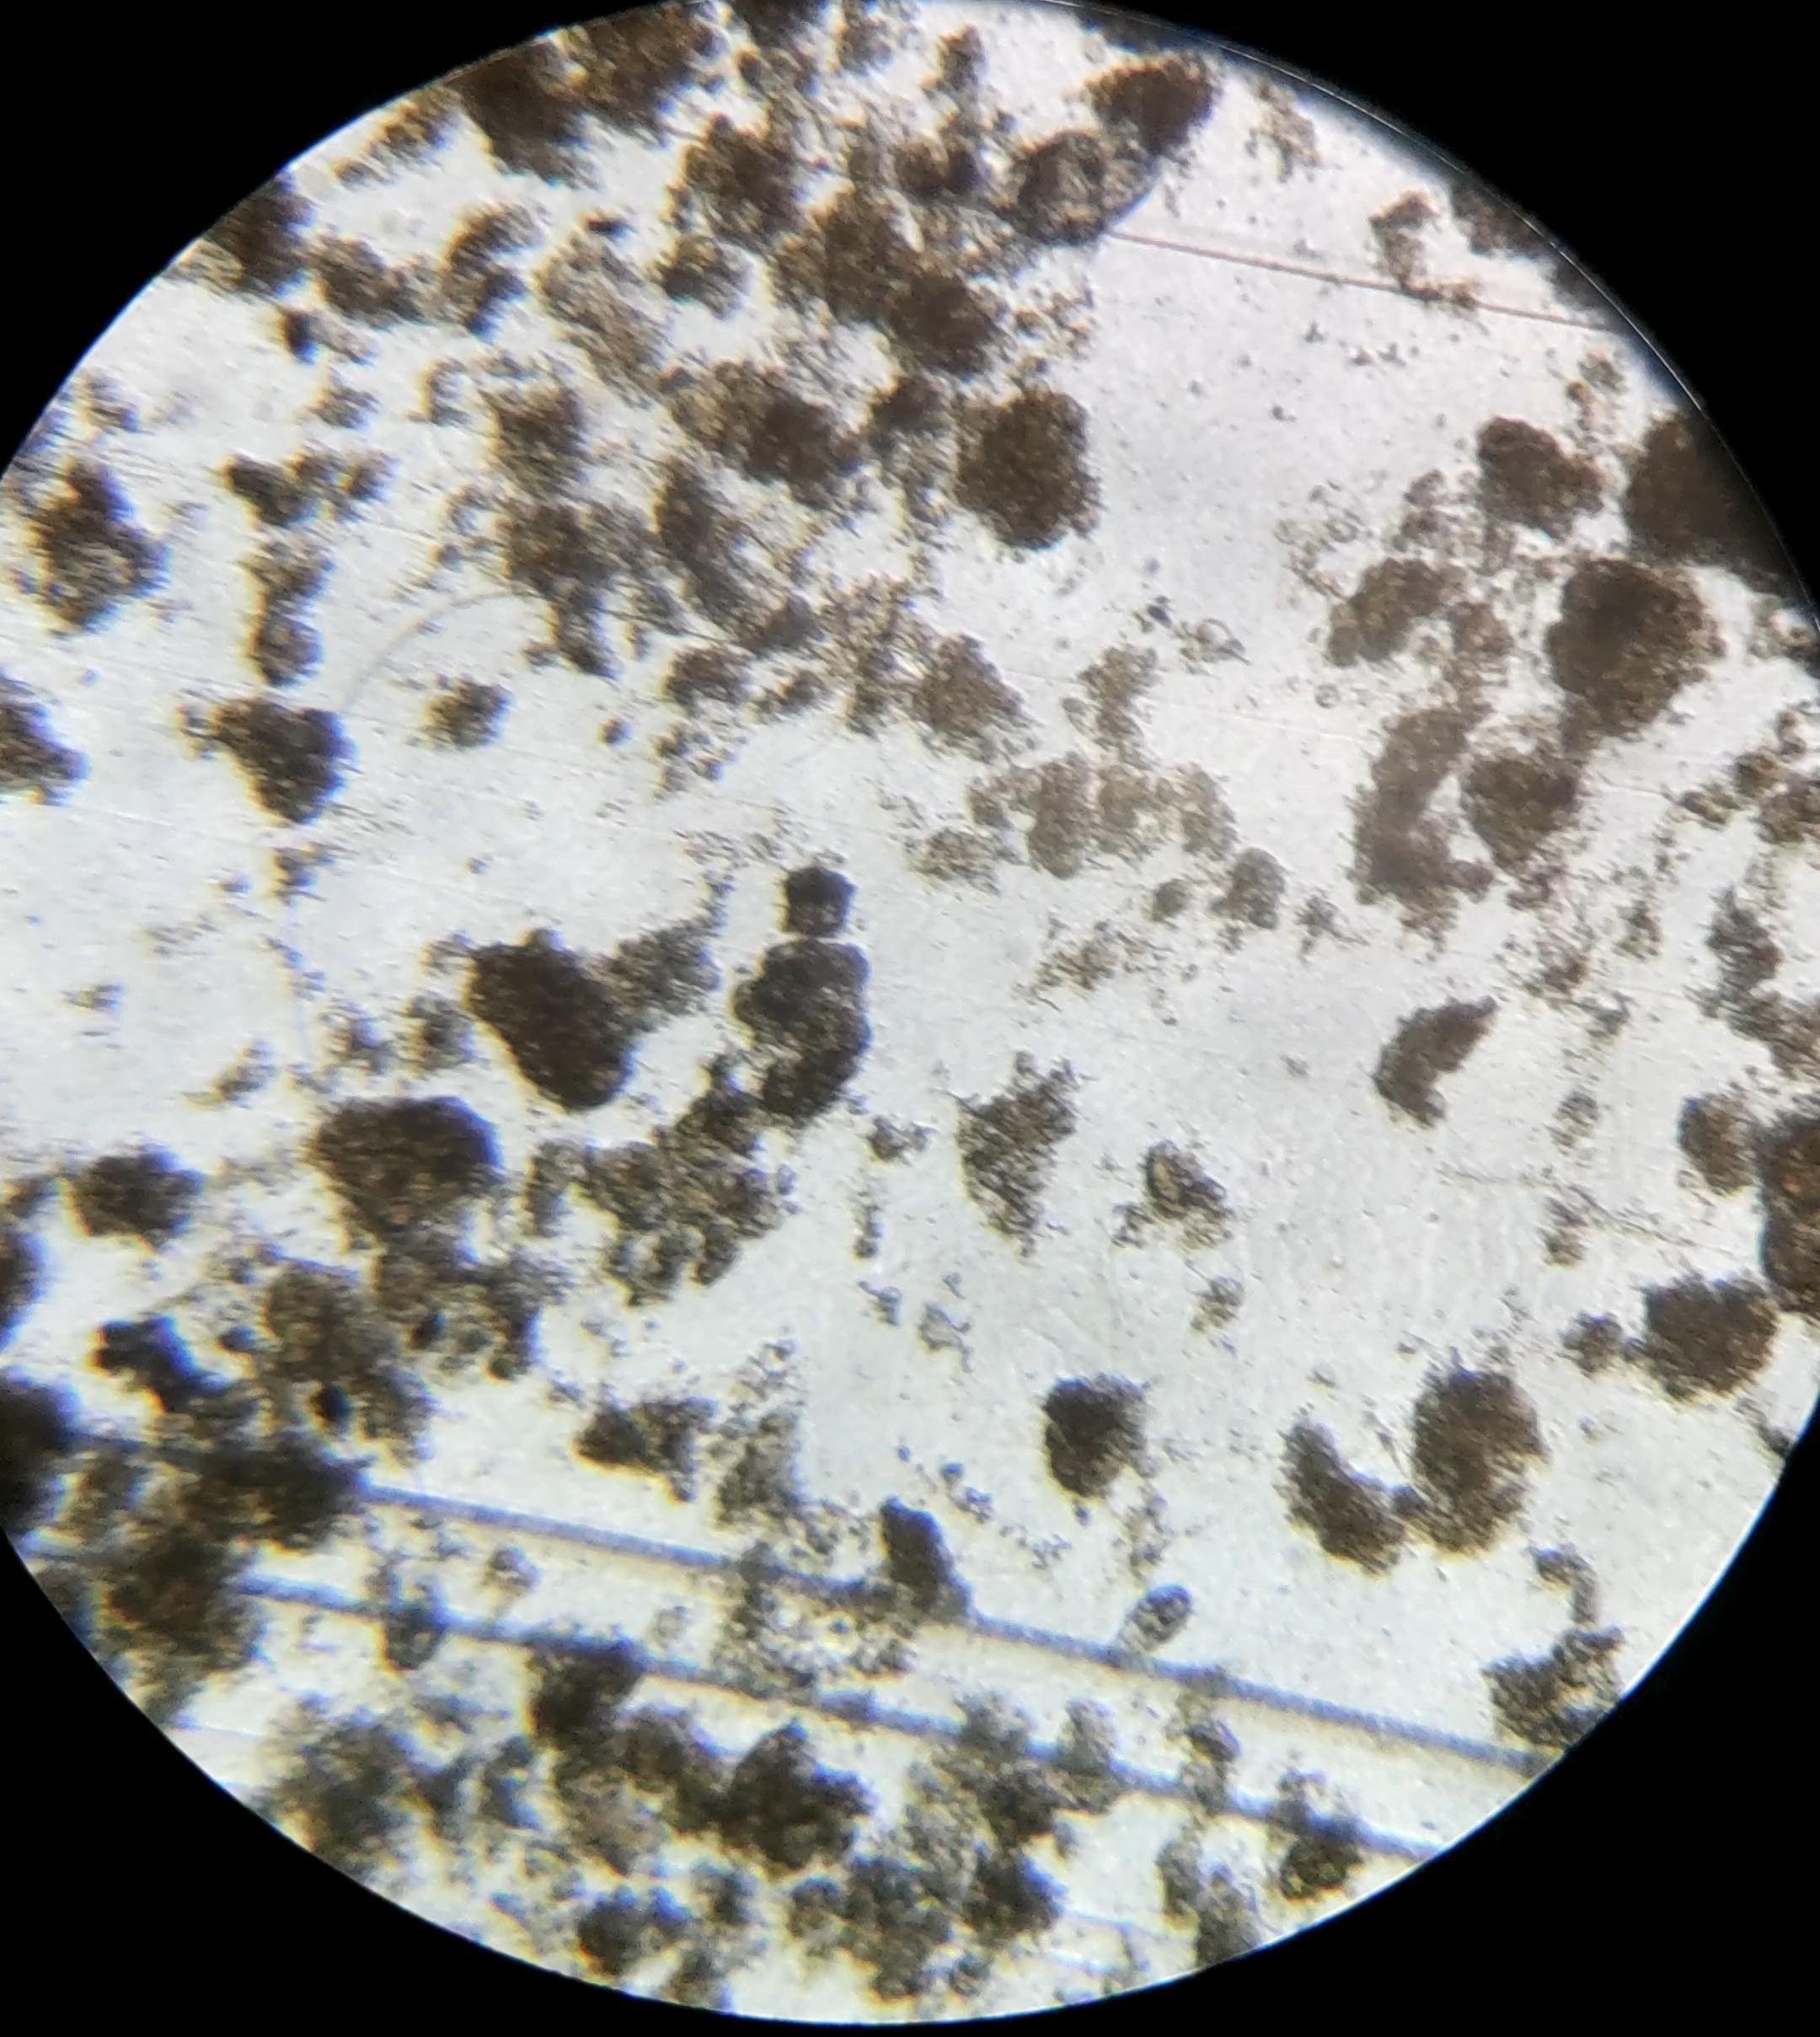Mo: (929, 121, 1159, 244)
